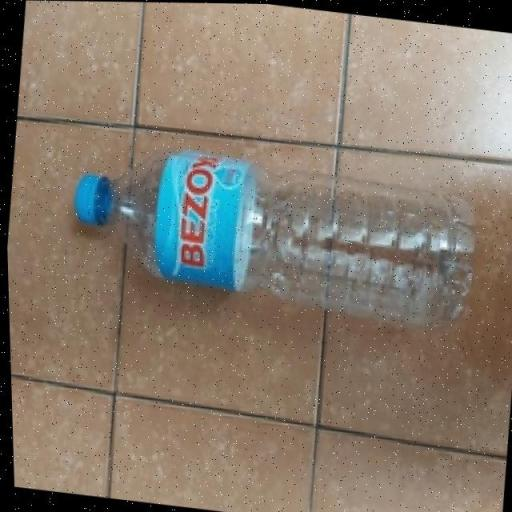plastic: (75, 150, 473, 327)
